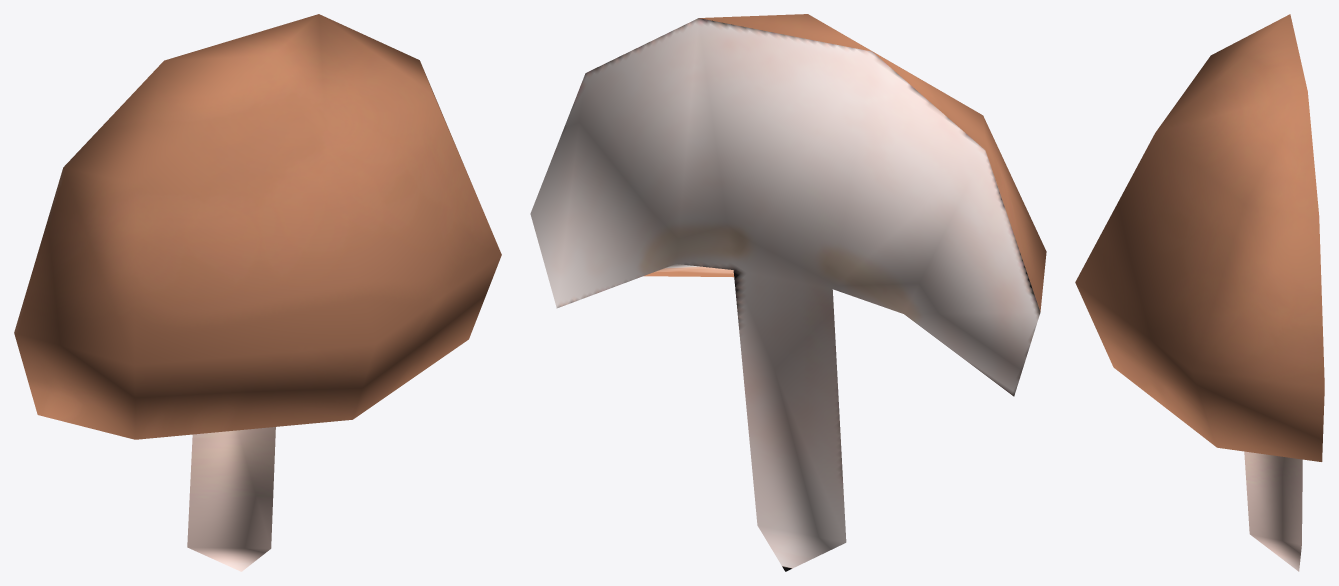
The model's file is Mushroom CUT4.fbx.
3 views of the same model, side by side, from view 1: azimuth 30°, elevation 25°; view 2: azimuth 150°, elevation 25°; view 3: azimuth 270°, elevation 25° (orthographic). The views are drawn at different scales.
Parts seen in each view (by area): view 1: Mushroom CUT4; view 2: Mushroom CUT4; view 3: Mushroom CUT4.
Boxes of the visible parts, <box> form: Mushroom CUT4: <box>14,14,501,571</box>; Mushroom CUT4: <box>530,14,1046,571</box>; Mushroom CUT4: <box>1075,14,1324,571</box>.
Bounding box in the file's own units: 27.59 × 29.29 × 12.76.
